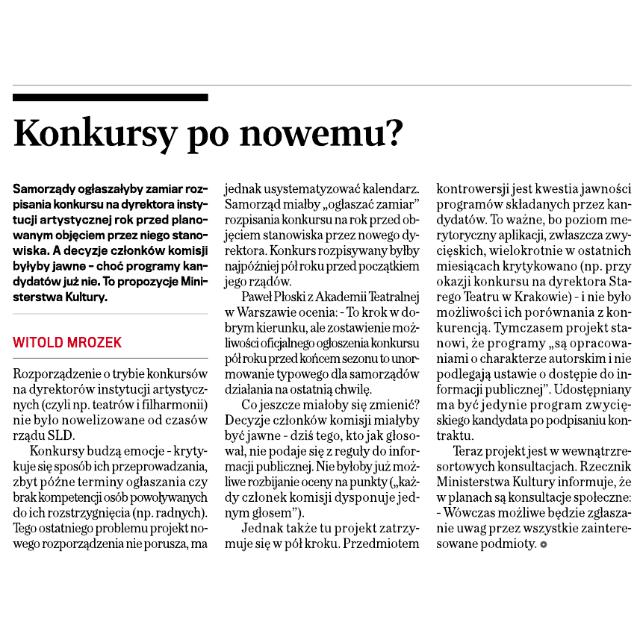author: (10, 326, 128, 354)
body: (433, 178, 634, 556), (223, 178, 422, 554), (9, 362, 213, 554)
lead: (10, 177, 212, 307)
title: (11, 106, 413, 162)
